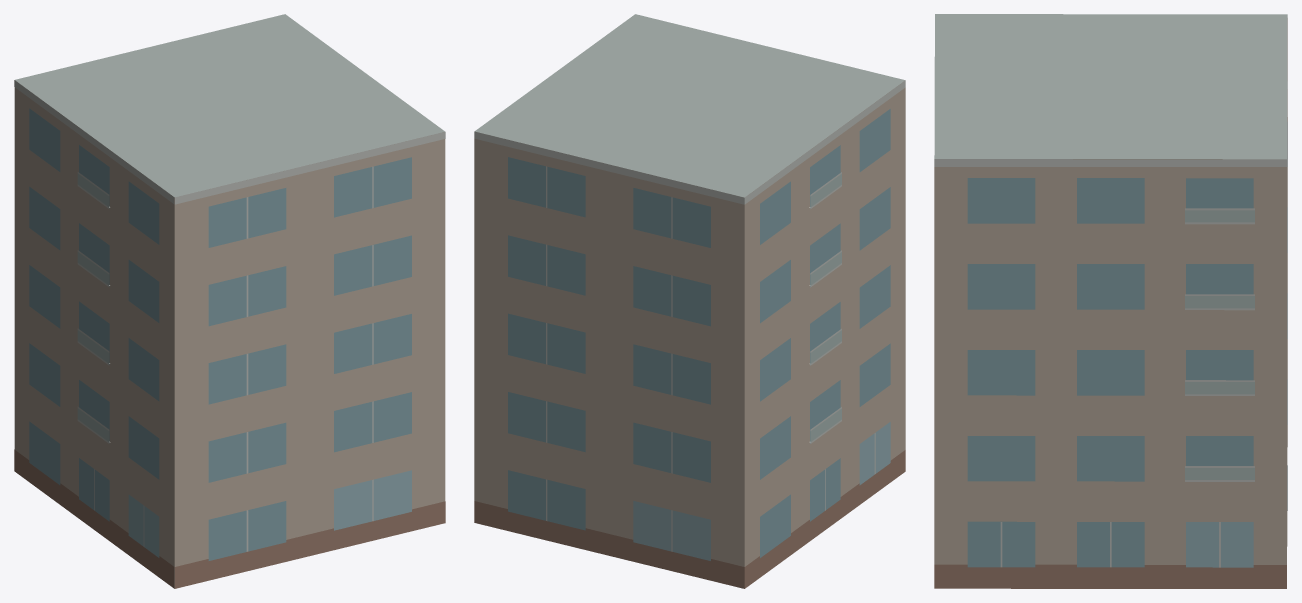
The model's file is survey-upis-32951694.glb.
3 views of the same model, side by side, from view 1: azimuth 30°, elevation 25°; view 2: azimuth 150°, elevation 25°; view 3: azimuth 270°, elevation 25° (orthographic). The views are drawn at different scales.
Visible parts, largest first — view 1: survey-upis-32951694.tmp; view 2: survey-upis-32951694.tmp; view 3: survey-upis-32951694.tmp.
Part boxes in pixels (x1,y1,x2,y2): survey-upis-32951694.tmp: (14,14,445,588); survey-upis-32951694.tmp: (474,14,905,588); survey-upis-32951694.tmp: (934,14,1287,588).
Size of the model in its own units: 9.71 by 13.3 by 9.92.
